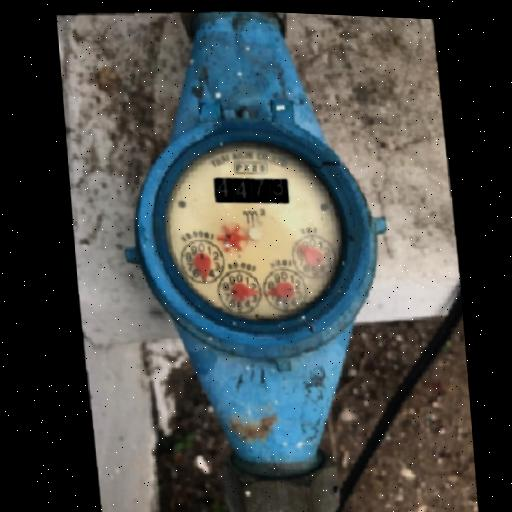3: (269, 178, 289, 203)
4: (213, 178, 234, 203), (233, 178, 252, 202)
7: (251, 178, 270, 203)
border_water_meter_number: (213, 175, 290, 206)
